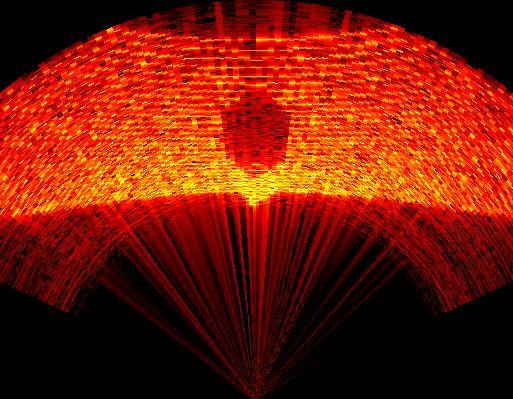box_crate: (217, 88, 292, 203)
